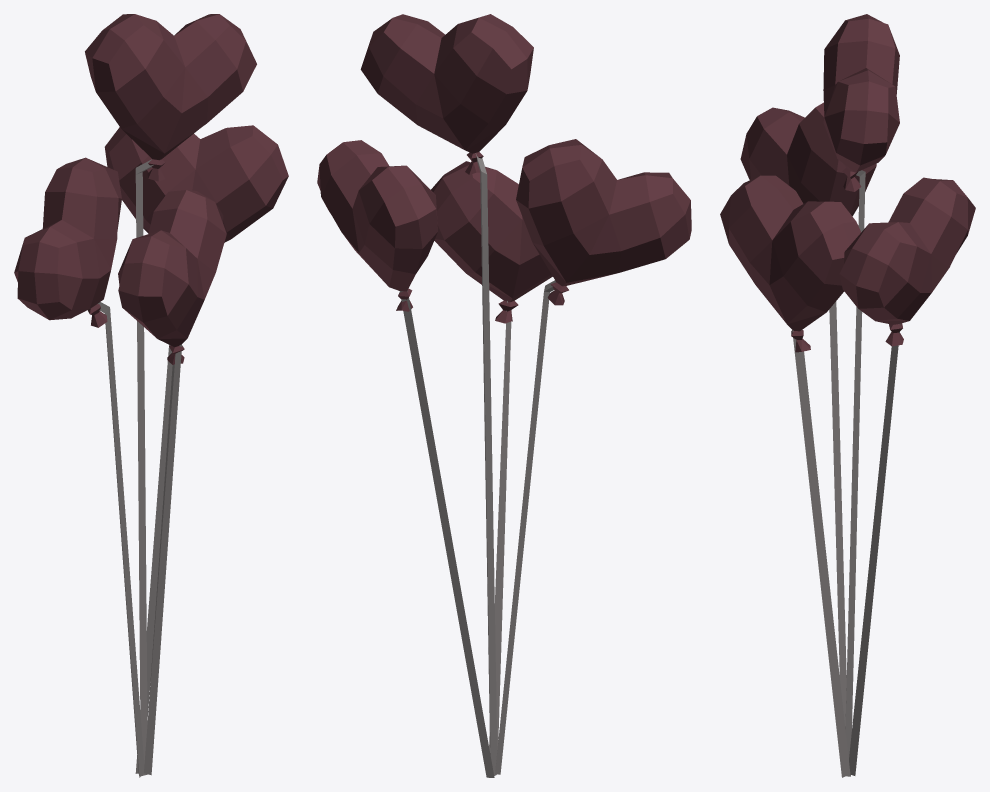
The model's file is balloons-hearts-medium.fbx.
3 views of the same model, side by side, from view 1: azimuth 30°, elevation 25°; view 2: azimuth 150°, elevation 25°; view 3: azimuth 270°, elevation 25° (orthographic).
Parts seen in each view (by area): view 1: balloons-hearts-medium; view 2: balloons-hearts-medium; view 3: balloons-hearts-medium.
Boxes of the visible parts, x1,y1,x2,y2 form: balloons-hearts-medium: (14,14,288,777); balloons-hearts-medium: (317,14,691,777); balloons-hearts-medium: (720,14,975,777).
Size of the model in its own units: 0.8882 by 2.02 by 0.6168.
